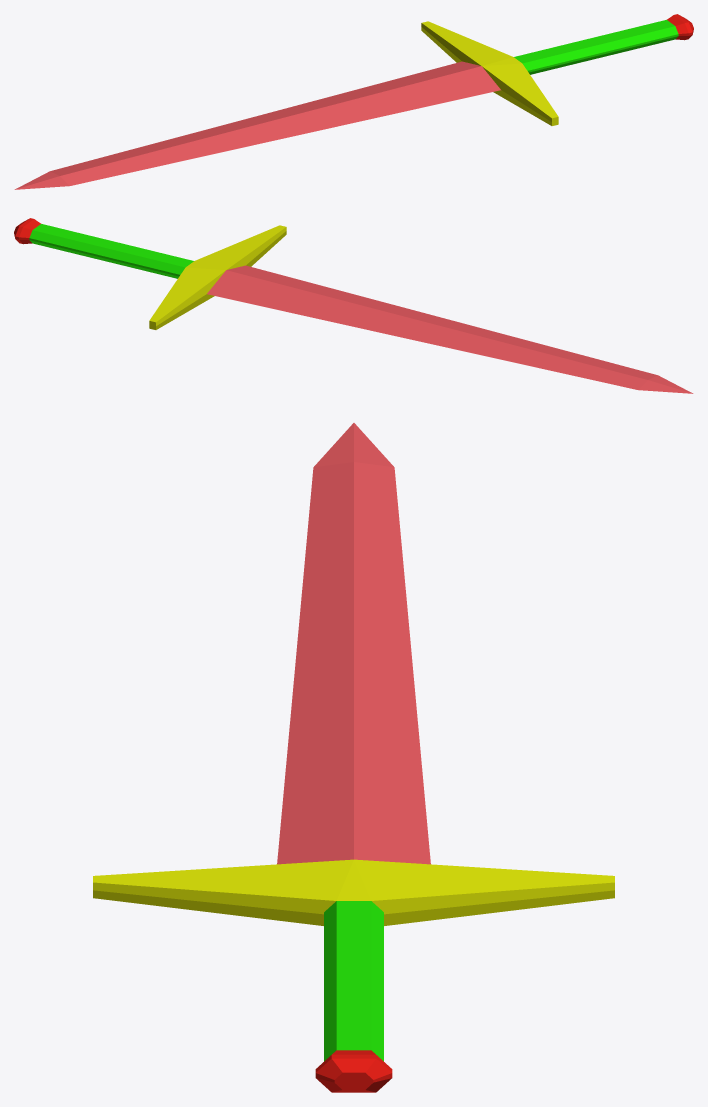
Rendered from sword.gltf.
3 views of the same model, one above another, from view 1: azimuth 30°, elevation 25°; view 2: azimuth 150°, elevation 25°; view 3: azimuth 270°, elevation 25° (orthographic). The views are drawn at different scales.
Parts seen in each view (by area): view 1: Cube; view 2: Cube; view 3: Cube.
Part boxes in pixels (left/top/right/bottom): Cube: left=14, top=14, right=693, bottom=189; Cube: left=14, top=218, right=693, bottom=393; Cube: left=93, top=423, right=614, bottom=1092.
Bounding box in the file's own units: 1.66 × 0.0456 × 0.5574.
